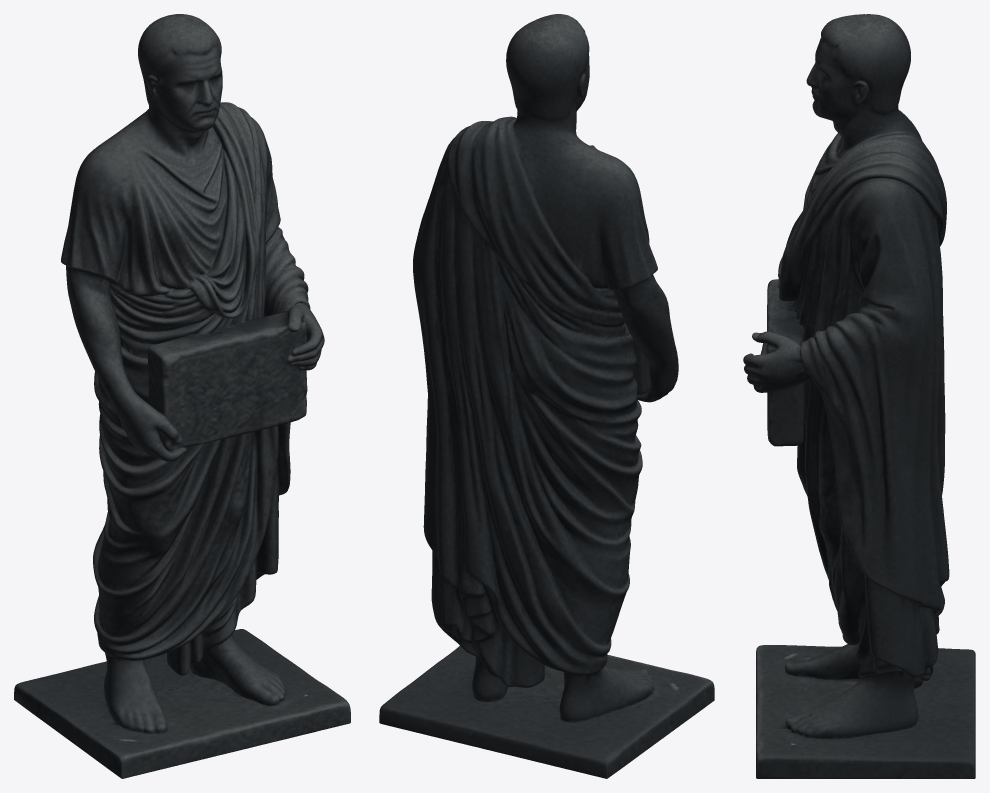
File: iron-bureaucrat.glb
3 views of the same model, side by side, from view 1: azimuth 30°, elevation 25°; view 2: azimuth 150°, elevation 25°; view 3: azimuth 270°, elevation 25° (orthographic).
Size of the model in its own units: 0.6599 by 1.9 by 0.57.
Materials: 1 (1 with a texture image).
